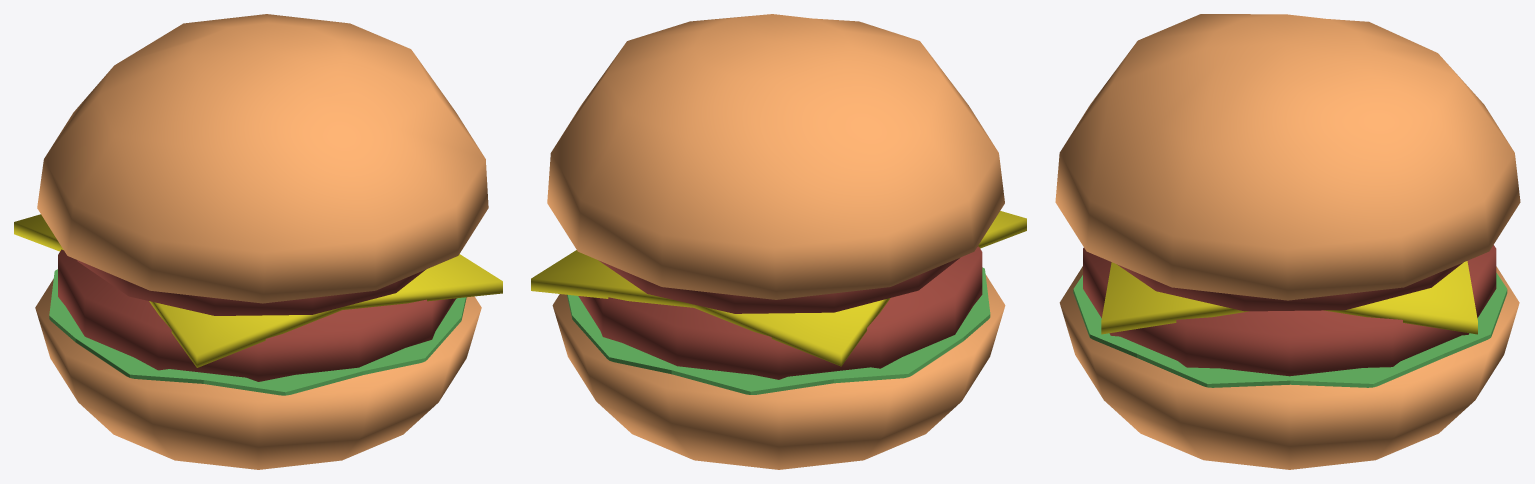
The model's file is hamburguer.glb.
The picture shows the model from 3 angles, left to right: view 1: azimuth 30°, elevation 25°; view 2: azimuth 150°, elevation 25°; view 3: azimuth 270°, elevation 25°; orthographic projection. The views are drawn at different scales.
Visible parts, largest first — view 1: Sphere.001; view 2: Sphere.001; view 3: Sphere.001.
Part boxes in pixels (x1,y1,x2,y2): Sphere.001: (14,14,502,469); Sphere.001: (531,14,1026,469); Sphere.001: (1055,14,1520,469).
Size of the model in its own units: 1.89 by 1.59 by 1.88.
